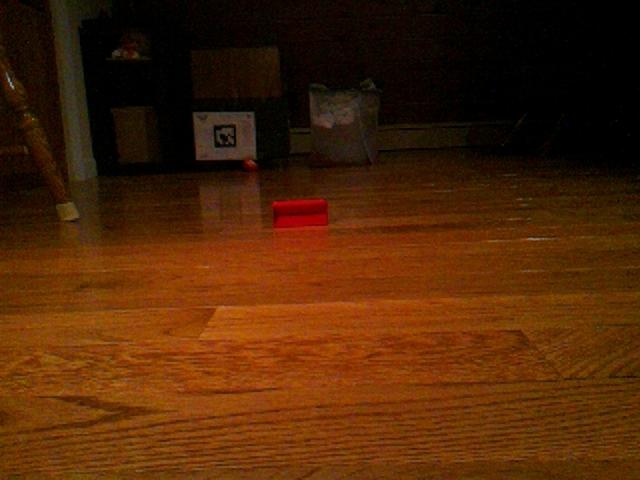red: (270, 197, 330, 229)
